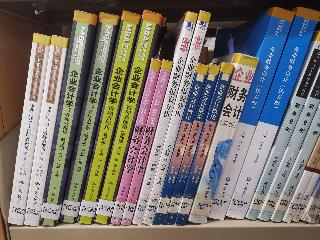book-spine: (221, 4, 320, 223), (203, 6, 296, 222), (128, 10, 200, 228), (141, 9, 211, 227), (241, 32, 320, 222), (75, 10, 142, 226), (93, 10, 160, 225), (34, 10, 96, 229), (56, 12, 120, 224), (187, 52, 259, 225), (161, 63, 221, 228), (176, 61, 234, 228), (20, 35, 70, 228), (257, 72, 320, 224), (151, 62, 209, 226), (119, 58, 174, 225), (109, 58, 162, 227), (5, 32, 51, 226), (267, 103, 320, 224), (282, 136, 320, 226), (291, 159, 320, 223)
